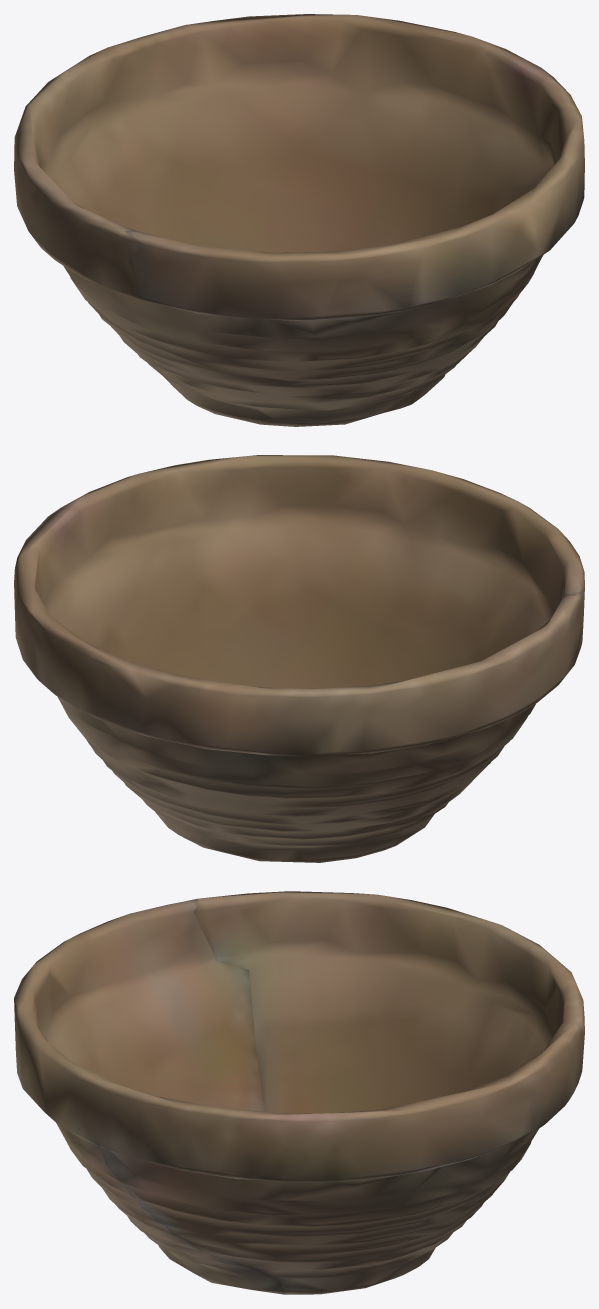
The model's file is Cole_Hardware_Deep_Bowl_Good_Earth_1075-medium.glb.
3 renders of one model, top to bottom at view 1: azimuth 30°, elevation 25°; view 2: azimuth 150°, elevation 25°; view 3: azimuth 270°, elevation 25°, orthographic.
Visible parts, largest first — view 1: Cole_Hardware_Deep_Bowl_Good_Earth_1075; view 2: Cole_Hardware_Deep_Bowl_Good_Earth_1075; view 3: Cole_Hardware_Deep_Bowl_Good_Earth_1075.
Part boxes in pixels (x1,y1,x2,y2): Cole_Hardware_Deep_Bowl_Good_Earth_1075: (14,14,584,426); Cole_Hardware_Deep_Bowl_Good_Earth_1075: (14,455,584,862); Cole_Hardware_Deep_Bowl_Good_Earth_1075: (14,891,584,1294).
Size of the model in its own units: 0.2829 by 0.1315 by 0.2838.
Materials: 1 (1 with a texture image).
